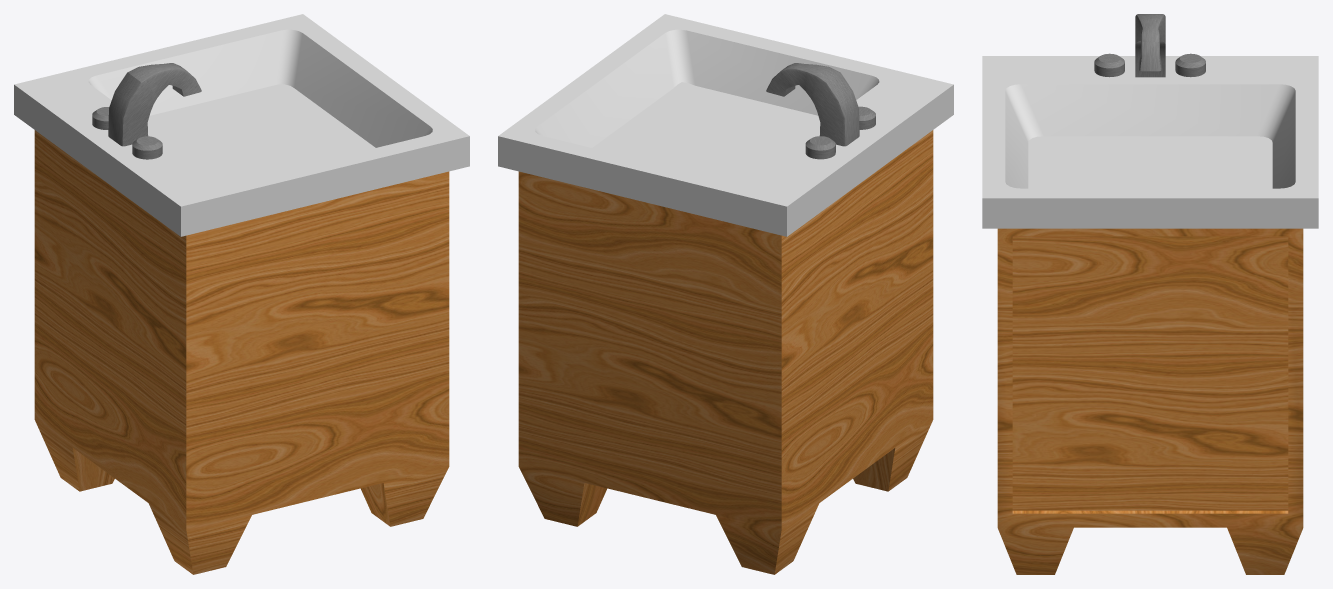
File: Sink.fbx
3 views of the same model, side by side, from view 1: azimuth 30°, elevation 25°; view 2: azimuth 150°, elevation 25°; view 3: azimuth 270°, elevation 25° (orthographic).
Visible parts, largest first — view 1: Sink; view 2: Sink; view 3: Sink.
Boxes of the visible parts, x1,y1,x2,y2 form: Sink: [14, 14, 469, 574]; Sink: [498, 14, 953, 574]; Sink: [982, 14, 1318, 574].
Size of the model in its own units: 220 by 329 by 220.
